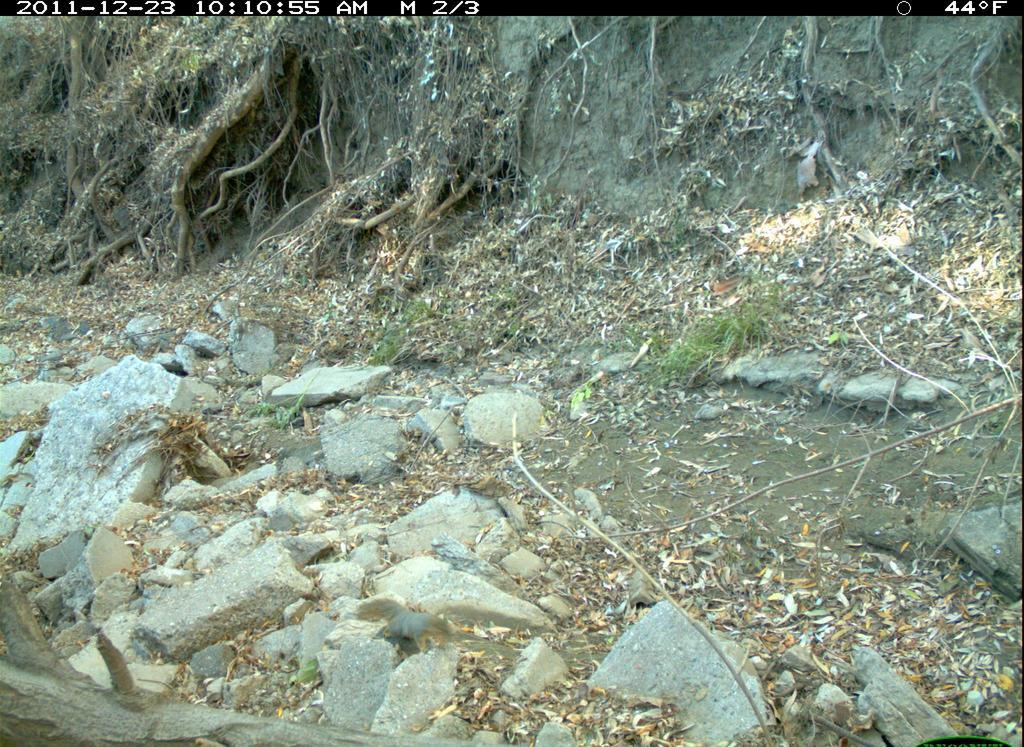squirrel: (359, 591, 465, 658)
